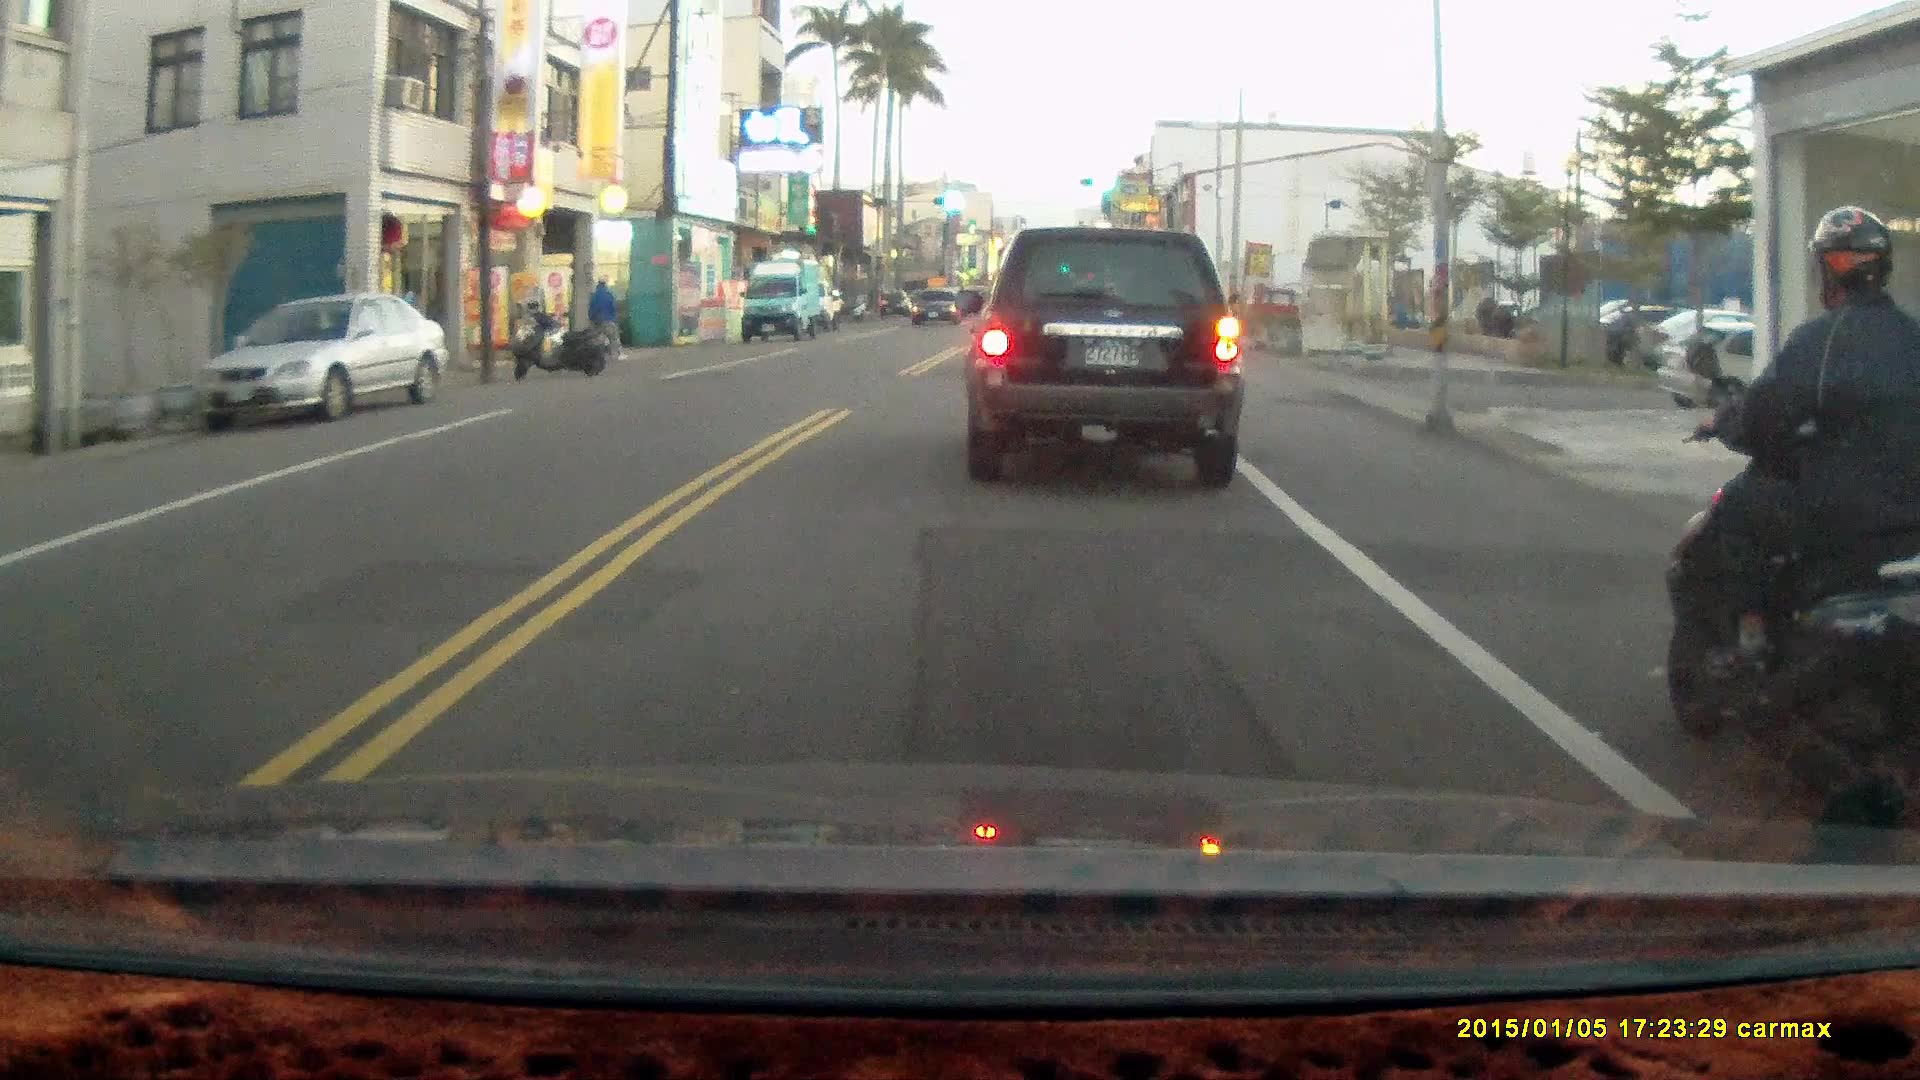pedestrian: (586, 277, 626, 365)
rider: (1658, 206, 1920, 869)
vehicle: (970, 227, 1249, 499), (202, 295, 447, 429), (1661, 325, 1886, 418), (741, 257, 822, 345), (910, 292, 965, 329)
